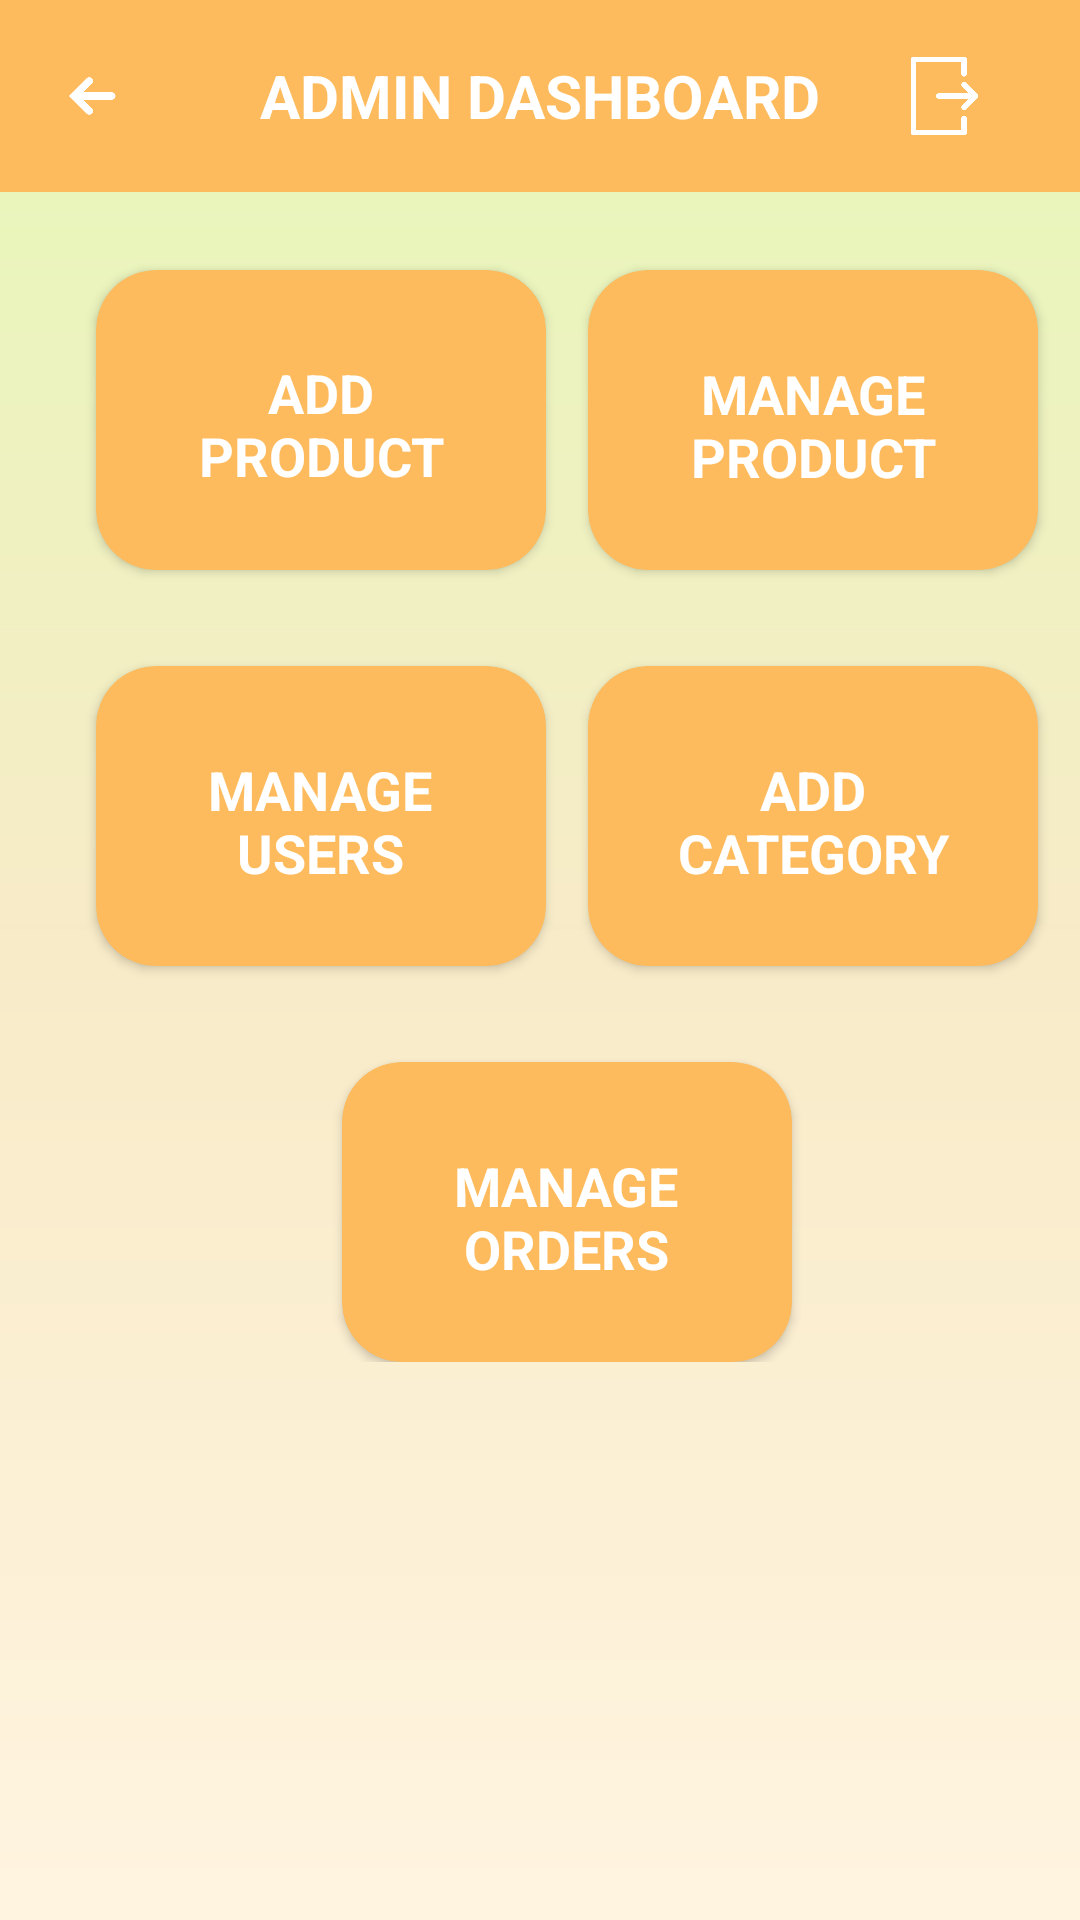

Icon click points for this 1080*1920 phone screenshot, format (x,y):
arrow left: (92,96)
